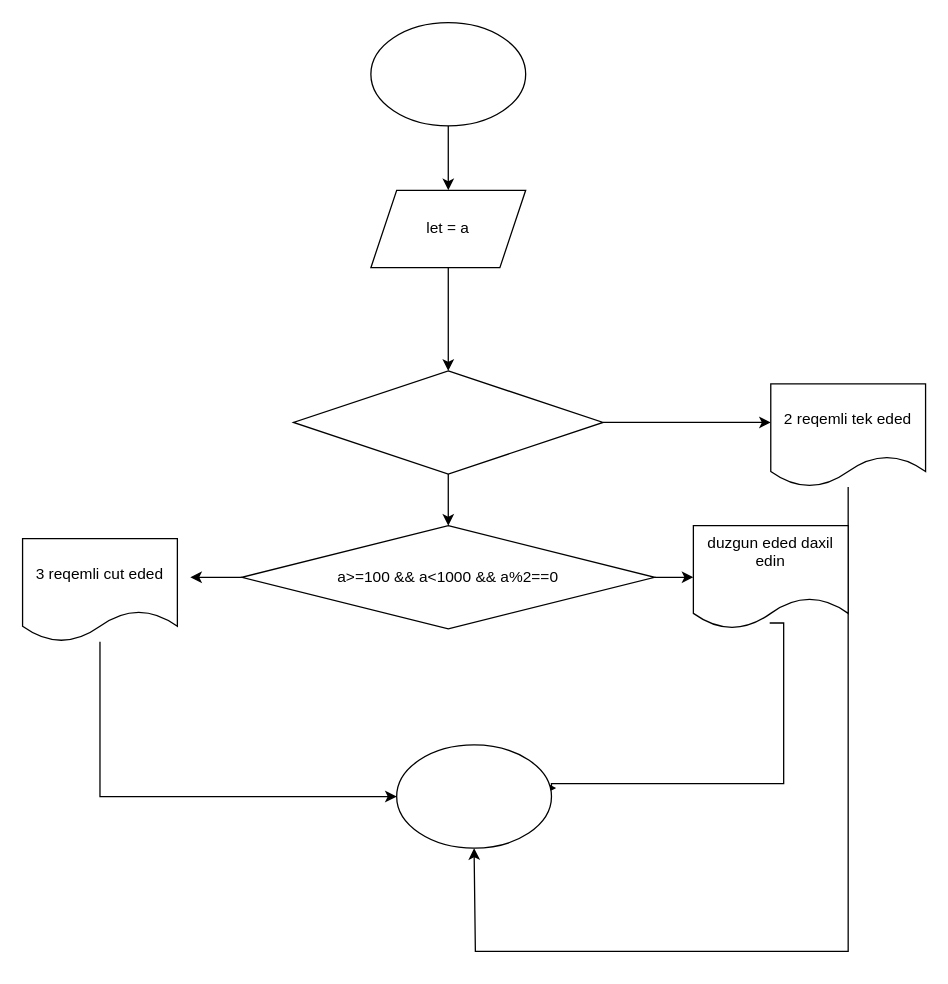
Some shapes in this 948 by 984 pixel diagram are drawn without their labels. Each missing label, with the centre of its shape:
"a<100 && a> 9 && a%2 !=0" belongs at [447,422].
"Endf" belongs at [473,796].
"start" belongs at [448,73].
